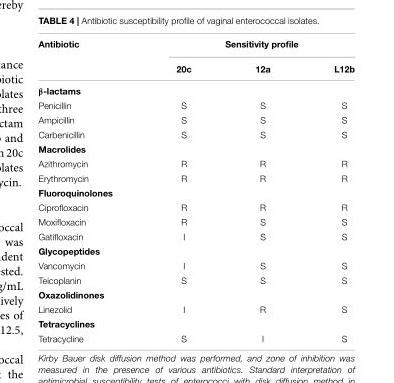table: (37, 37, 354, 343)
table column: (37, 37, 143, 343), (143, 37, 222, 343), (222, 37, 301, 343), (301, 37, 354, 343)
table column header: (37, 37, 354, 79)
table projected row header: (37, 79, 354, 97), (37, 184, 354, 199), (37, 286, 354, 301), (37, 315, 354, 330), (37, 141, 354, 155), (37, 243, 354, 257)
table row: (37, 55, 354, 79), (37, 37, 354, 55), (37, 79, 354, 97), (37, 111, 354, 126), (37, 126, 354, 141), (37, 155, 354, 170), (37, 184, 354, 199), (37, 213, 354, 228), (37, 228, 354, 243), (37, 257, 354, 272), (37, 286, 354, 301), (37, 315, 354, 330), (37, 97, 354, 111), (37, 141, 354, 155), (37, 170, 354, 184), (37, 199, 354, 213), (37, 243, 354, 257), (37, 272, 354, 286), (37, 301, 354, 315), (37, 330, 354, 343)
table spanning cell: (37, 37, 143, 79), (143, 37, 354, 55)
